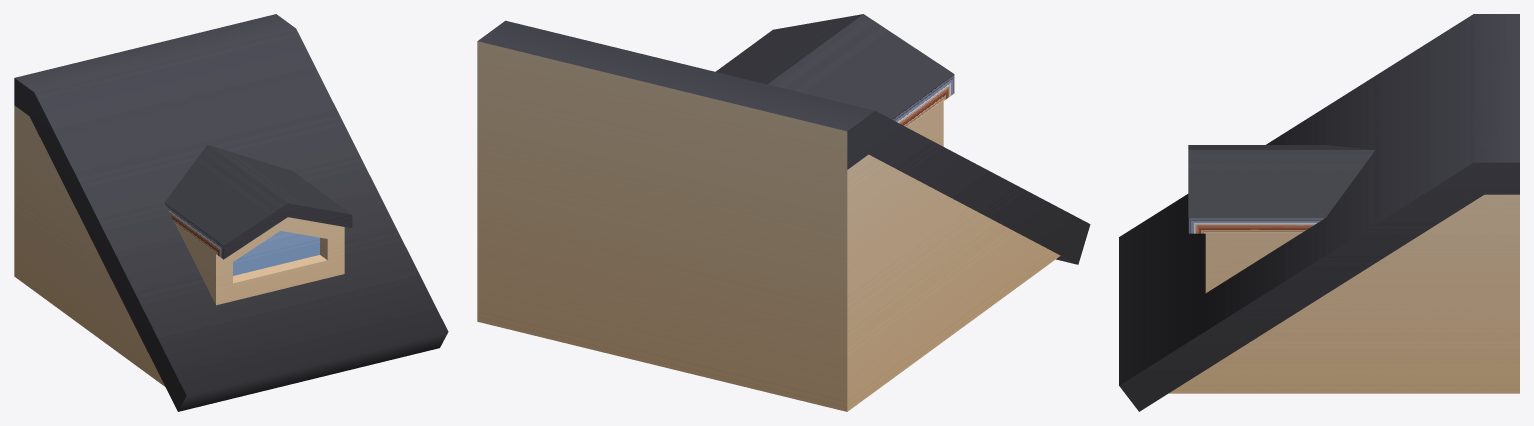
The picture shows the model from 3 angles, left to right: view 1: azimuth 30°, elevation 25°; view 2: azimuth 150°, elevation 25°; view 3: azimuth 270°, elevation 25°; orthographic projection. The views are drawn at different scales.
Parts seen in each view (by area): view 1: roof-slanted-window; view 2: roof-slanted-window; view 3: roof-slanted-window.
Part boxes in pixels (x1,y1,x2,y2): roof-slanted-window: (14, 14, 448, 411); roof-slanted-window: (477, 14, 1090, 411); roof-slanted-window: (1119, 14, 1519, 411).
Bounding box in the file's own units: 1 × 0.782 × 1.14.
1 material, 1 textured.
